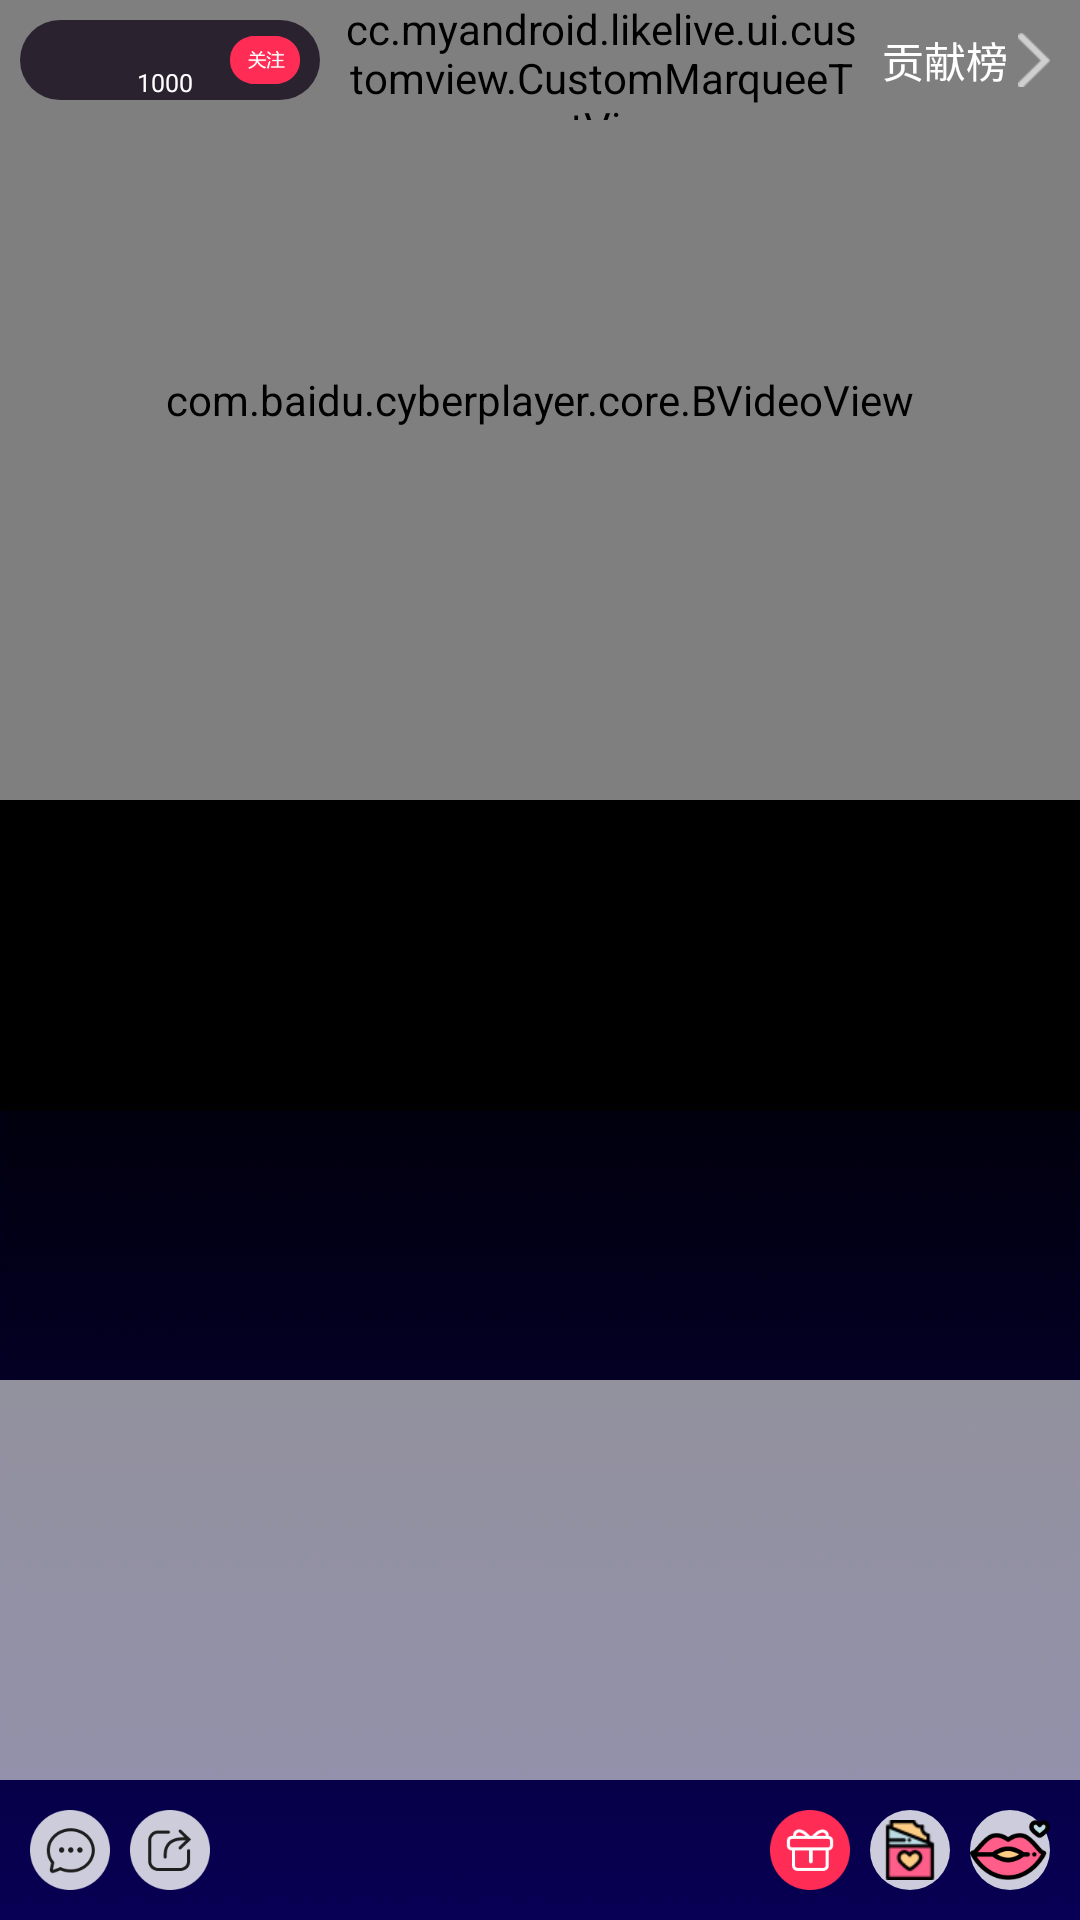

Icons on this 1080 x 1920 Android screen, each with its box as (x1, y1, x2, y2):
chocolate: (870, 1810, 950, 1890)
kiss: (970, 1810, 1050, 1890)
room chat: (30, 1810, 110, 1890)
room gift entrance: (770, 1810, 850, 1890)
room share: (130, 1810, 210, 1890)
